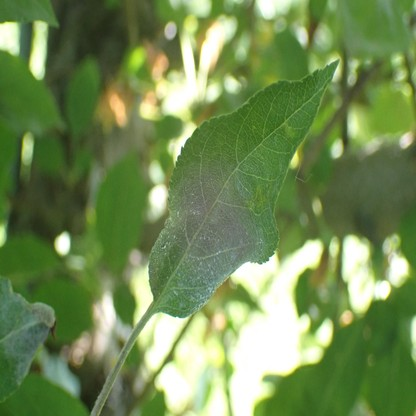powder: (151, 164, 265, 314), (0, 276, 57, 405)
scab: (284, 123, 294, 140)
